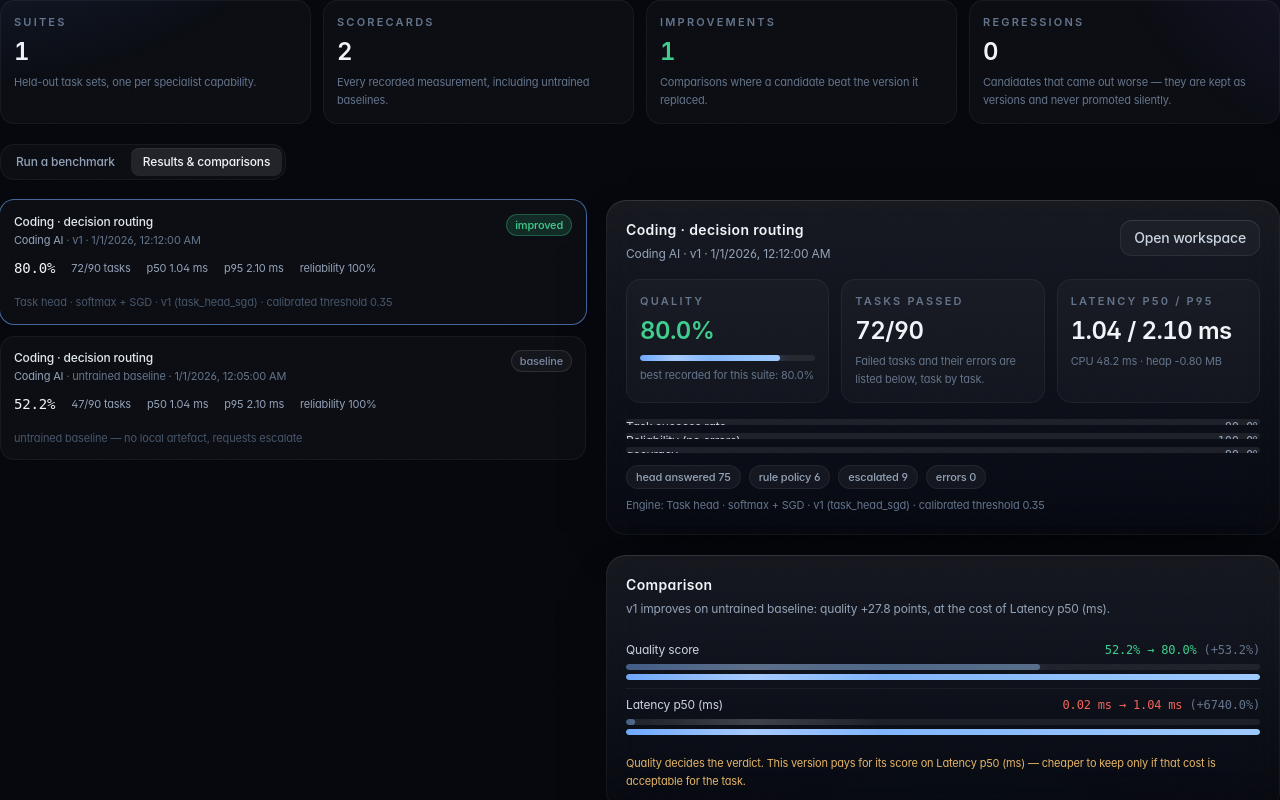
Test: benchmarks view › explains the promotion gate instead of implying a fixed score is enough
Click the tab "Run a benchmark".
click(65, 162)  # box [4,148,127,176]
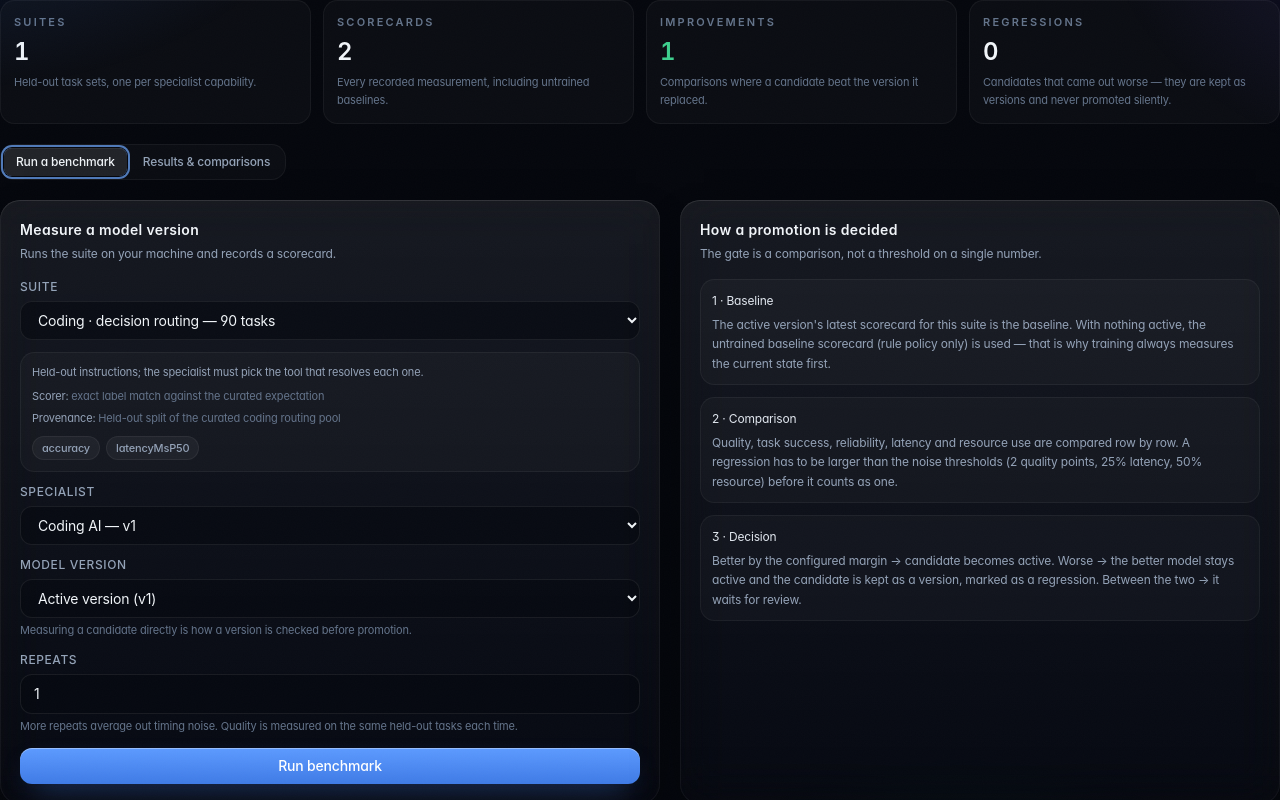
Result: the heading "How a promotion is decided" is shown at [700,221,898,238]
Result: the text "2 quality points, 25% latency, 50% resource" is shown at [712,435,1202,489]
